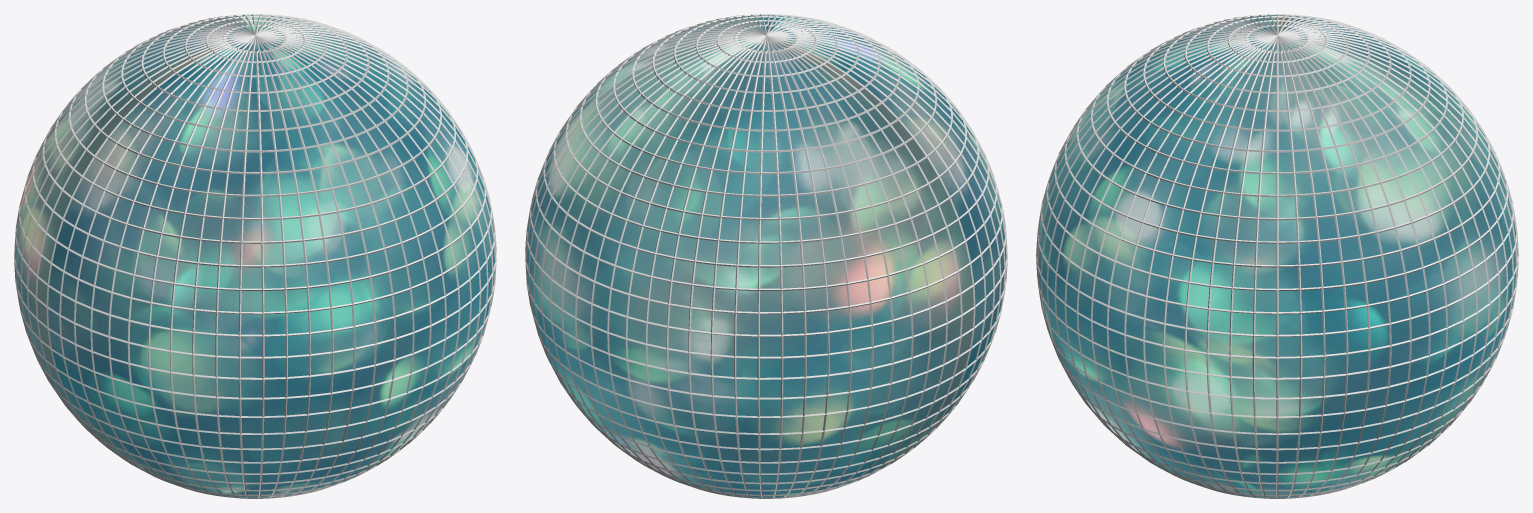
File: mirror9.glb
3 views of the same model, side by side, from view 1: azimuth 30°, elevation 25°; view 2: azimuth 150°, elevation 25°; view 3: azimuth 270°, elevation 25° (orthographic).
Visible parts, largest first — view 1: 구체; view 2: 구체; view 3: 구체.
Boxes of the visible parts, x1,y1,x2,y2 form: 구체: [14, 14, 496, 498]; 구체: [525, 14, 1007, 498]; 구체: [1036, 14, 1518, 498].
Bounding box in the file's own units: 1.98 × 2.01 × 1.98.
2 materials, 1 textured.
